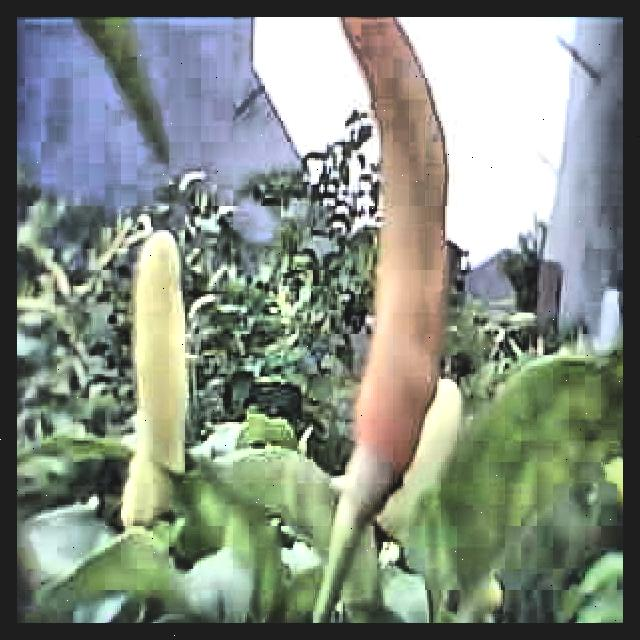Cabai: (332, 17, 473, 492)
